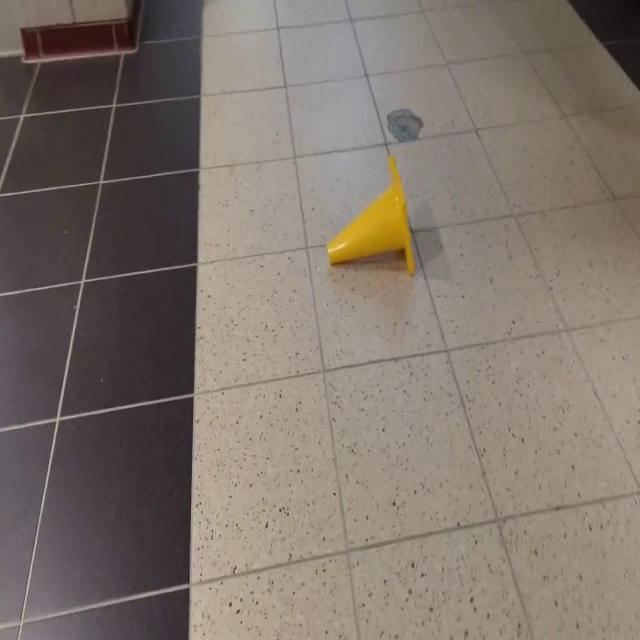frc_cone: (326, 156, 416, 276)
